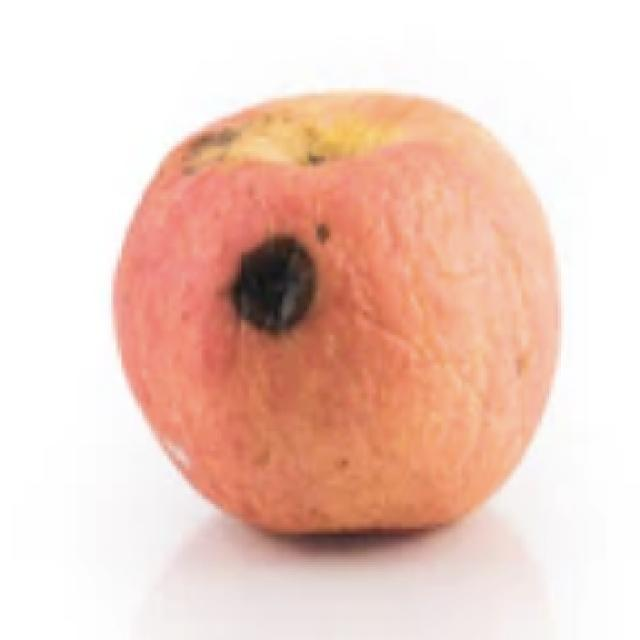Rotten: (108, 81, 562, 536)
